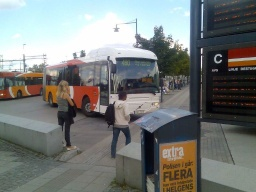bus: (43, 46, 163, 117)
person: (104, 89, 135, 158), (54, 80, 78, 153)
